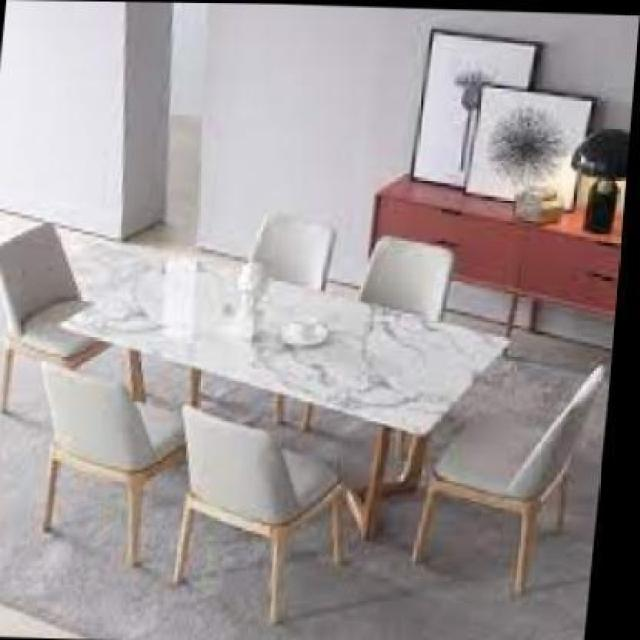tables: (57, 262, 511, 542), (366, 171, 625, 343)
